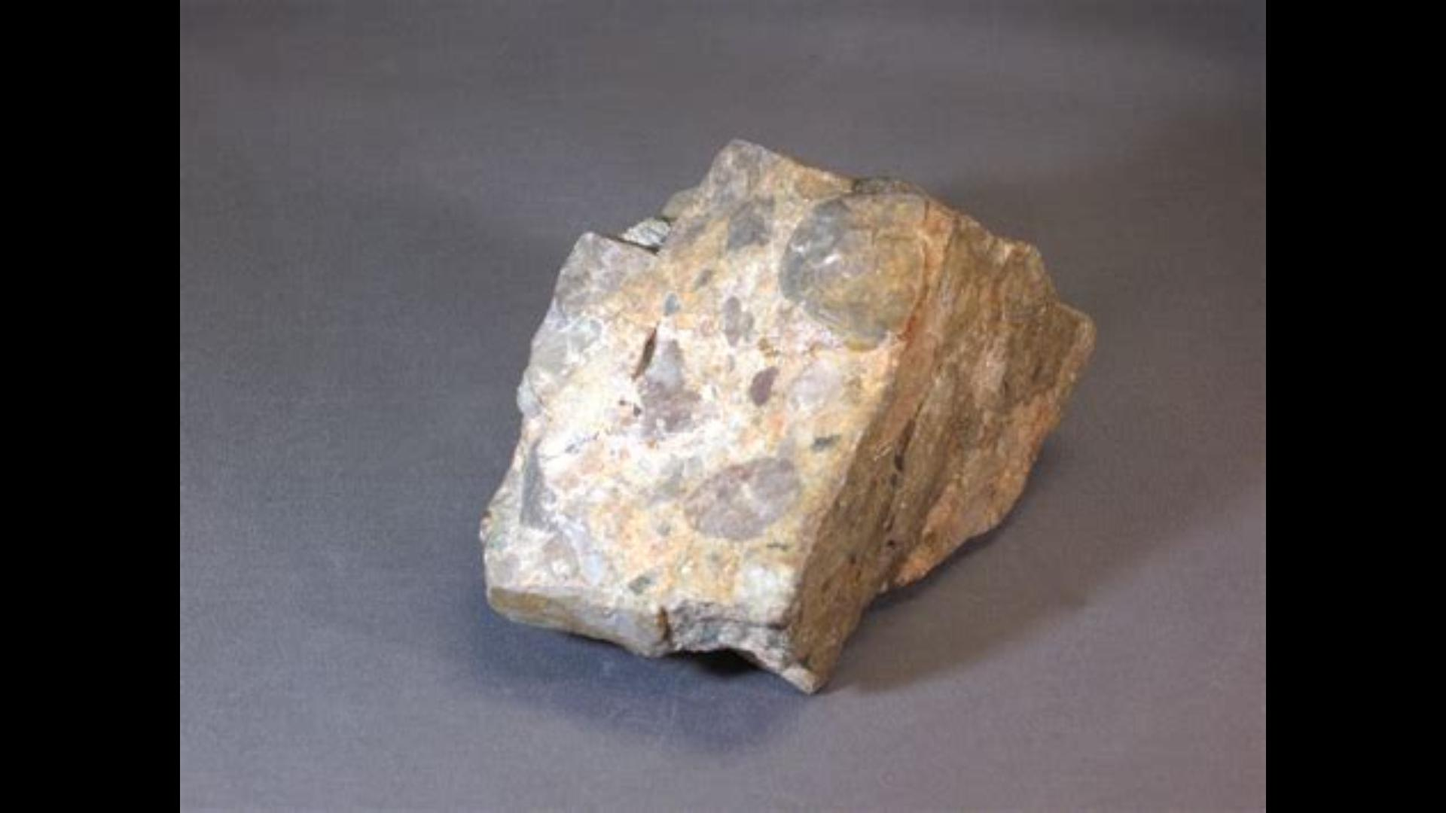rock: (482, 142, 1092, 687)
